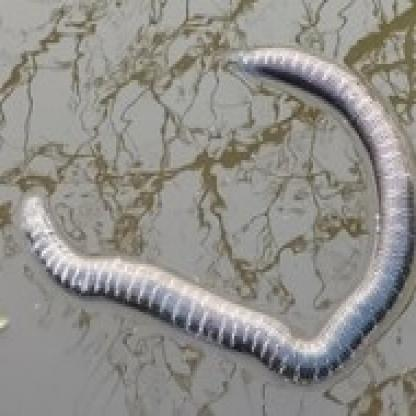Snake: (19, 45, 416, 383)
